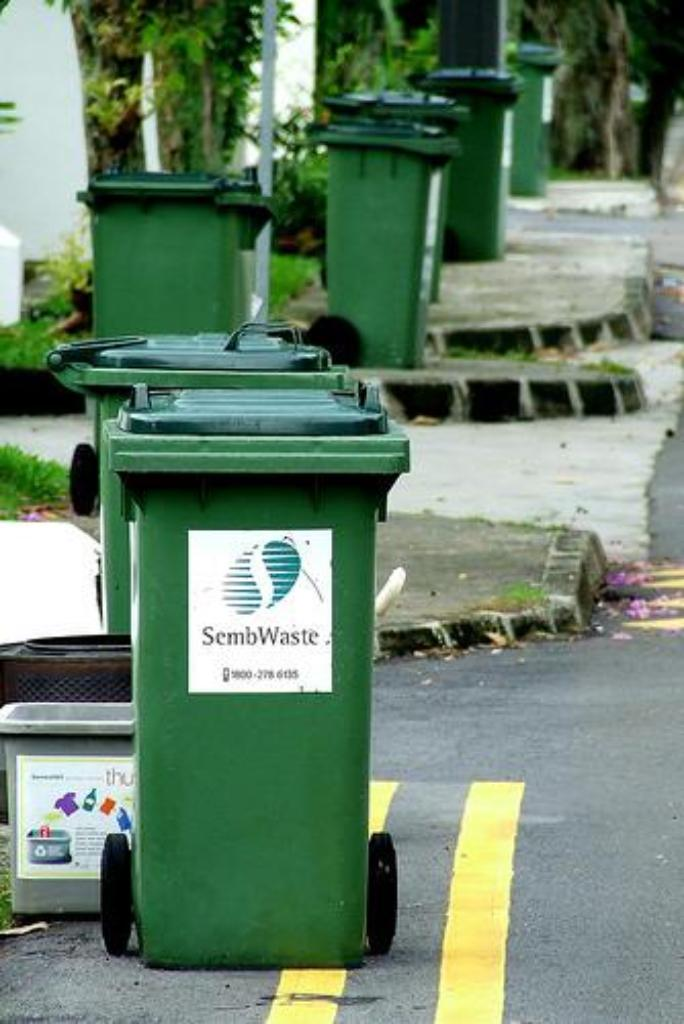dustbin: (83, 333, 423, 980), (318, 114, 462, 367), (428, 62, 517, 254)
